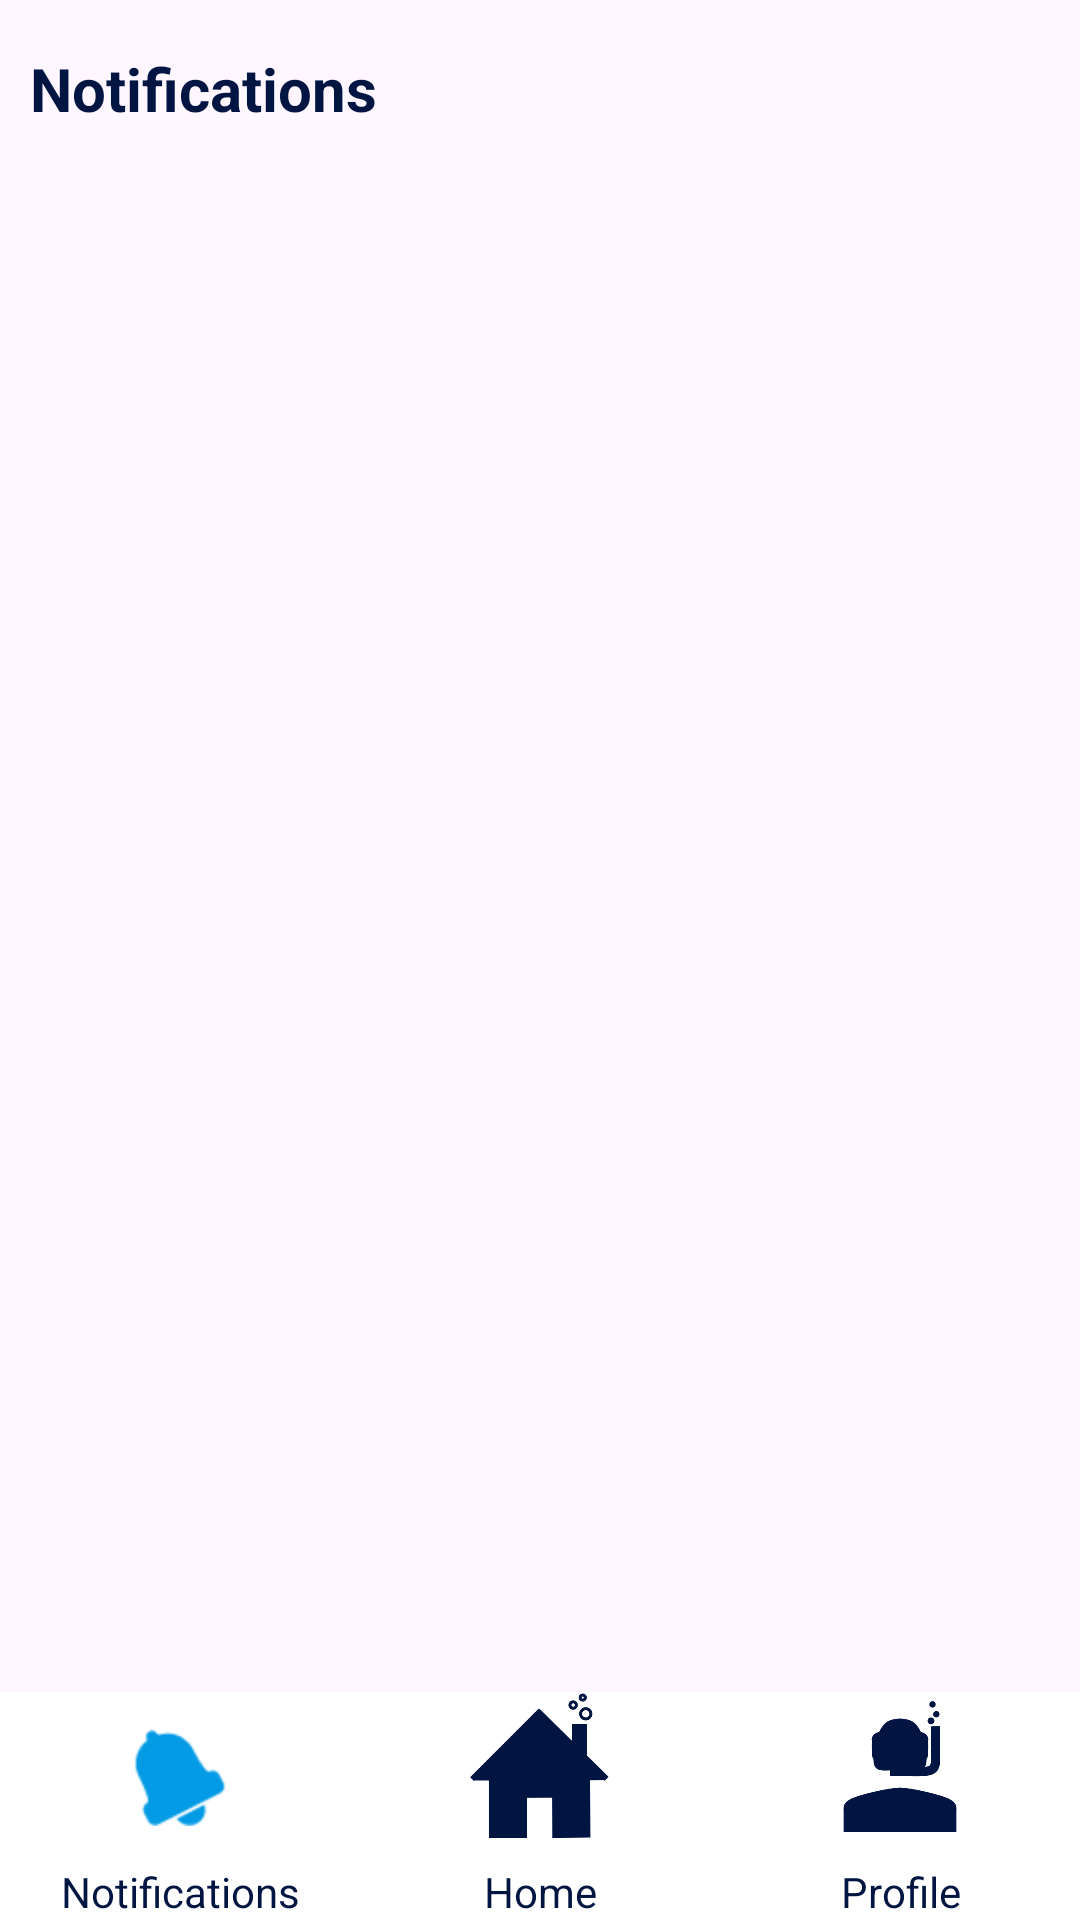

Where icons sit on this 1080*1920 app screen, as (x1, y1, x2, y2):
popup reminder: (135, 1730, 225, 1826)
